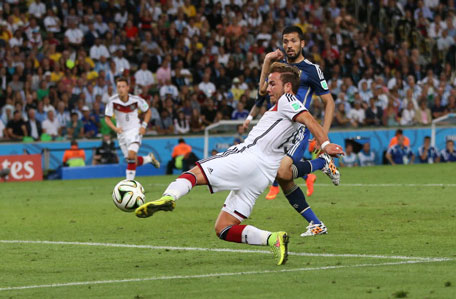football: (112, 179, 147, 213)
